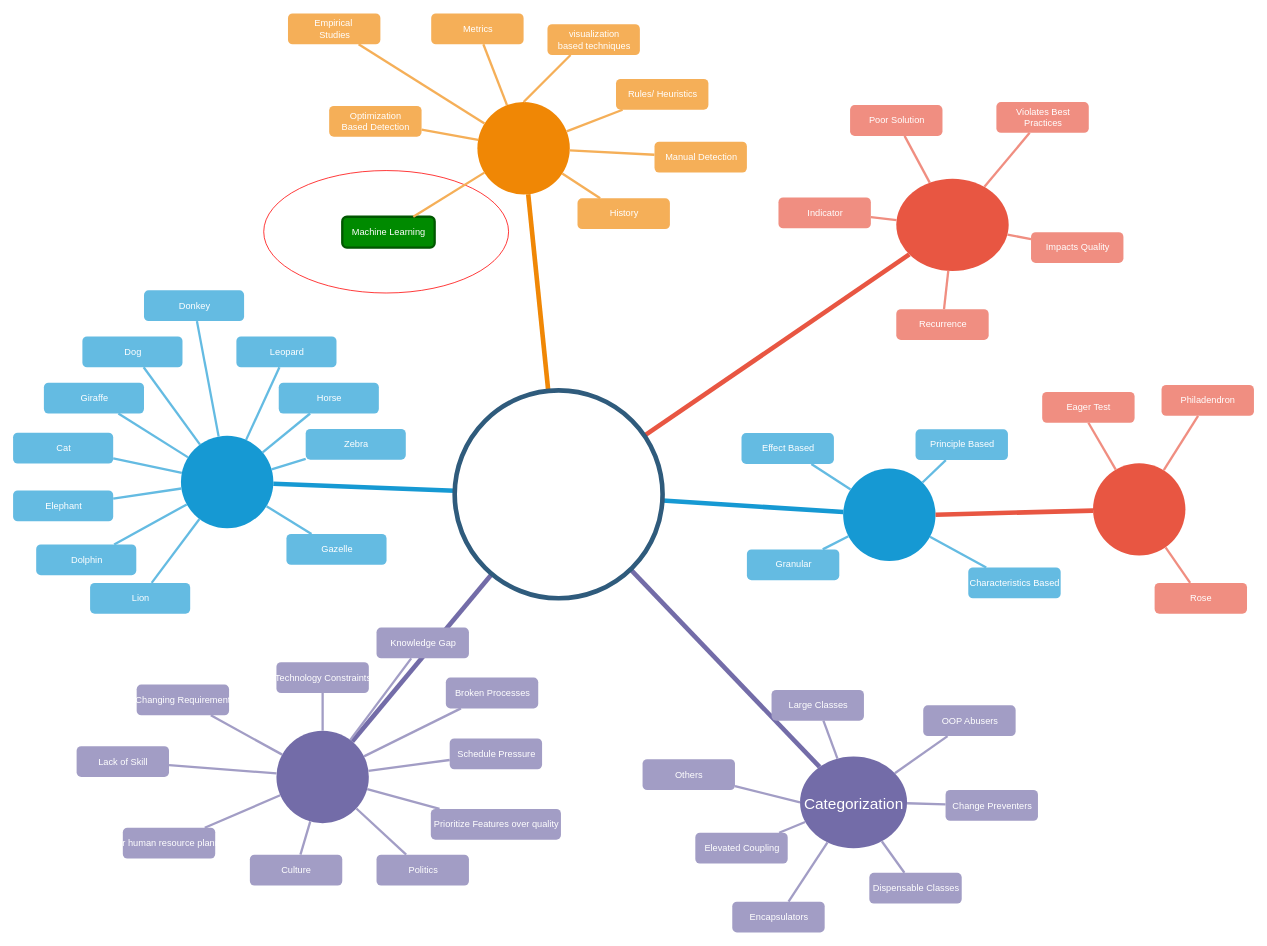
This 1267x946 diagram has some shape labels left out. The shapes that lost their labels are listed below. From the top down, each one's centre as x and y in pixels, then its label:
point 523,148: Detection Methods
point 952,224: Characteristics
point 227,481: Effects
point 558,494: Code Smells / Anti-Patterns
point 889,514: Types
point 1139,509: Test Smells
point 322,776: Causes
